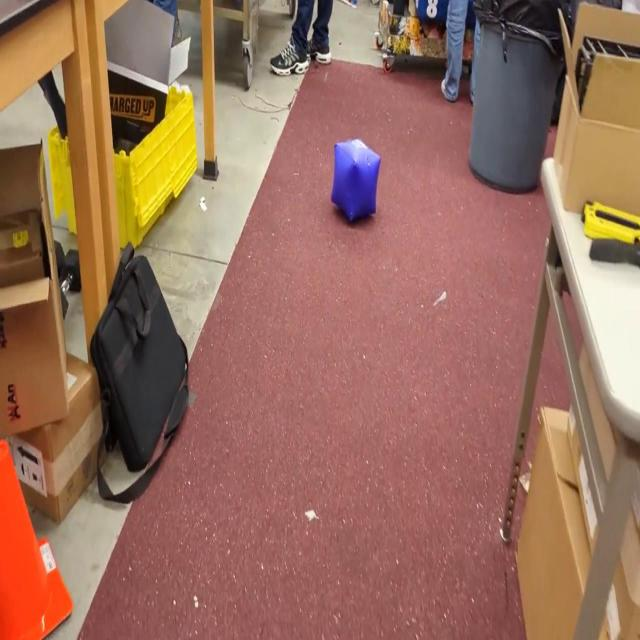frc_cube: (331, 132, 381, 226)
